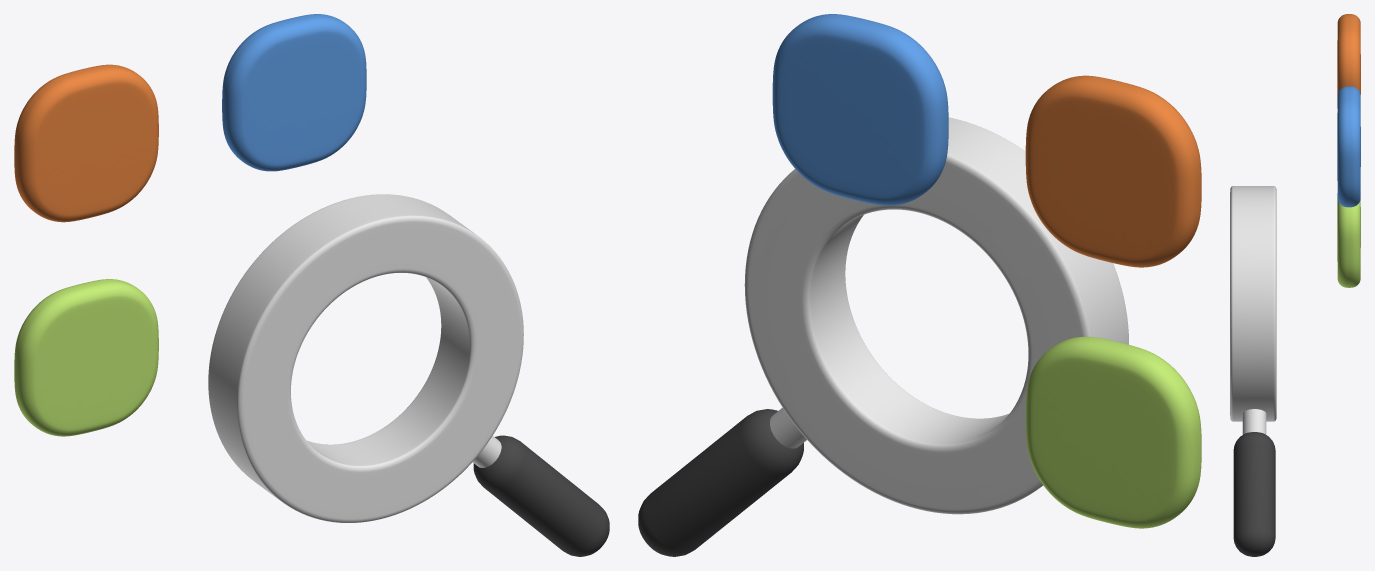
The model's file is searching-item-animated-3d-icon-974689197857.glb.
The picture shows the model from 3 angles, left to right: view 1: azimuth 30°, elevation 25°; view 2: azimuth 150°, elevation 25°; view 3: azimuth 270°, elevation 25°; orthographic projection. The views are drawn at different scales.
Visible parts, largest first — view 1: Circle.010, Plane.022, Plane.024, Plane.023, Cylinder.007; view 2: Circle.010, Plane.023, Plane.022, Plane.024, Cylinder.007, Cylinder.008; view 3: Circle.010, Cylinder.007, Plane.023, Plane.024, Plane.022, Cylinder.008.
Part boxes in pixels (box(x1,y1,x2,y2)): Circle.010: box(208, 194, 523, 522); Plane.022: box(14, 64, 158, 222); Plane.024: box(14, 279, 158, 436); Plane.023: box(222, 14, 366, 171); Cylinder.007: box(473, 435, 609, 556); Circle.010: box(744, 117, 1128, 514); Plane.023: box(772, 14, 948, 205); Plane.022: box(1025, 75, 1201, 267); Plane.024: box(1025, 336, 1201, 528); Cylinder.007: box(638, 409, 803, 556); Cylinder.008: box(770, 408, 806, 448); Circle.010: box(1230, 186, 1276, 421); Cylinder.007: box(1233, 432, 1275, 556); Plane.023: box(1337, 86, 1360, 207); Plane.024: box(1337, 193, 1360, 287); Plane.022: box(1337, 14, 1360, 108); Cylinder.008: box(1242, 409, 1266, 434).
Bounding box in the file's own units: 1.91 × 1.89 × 0.5817.
